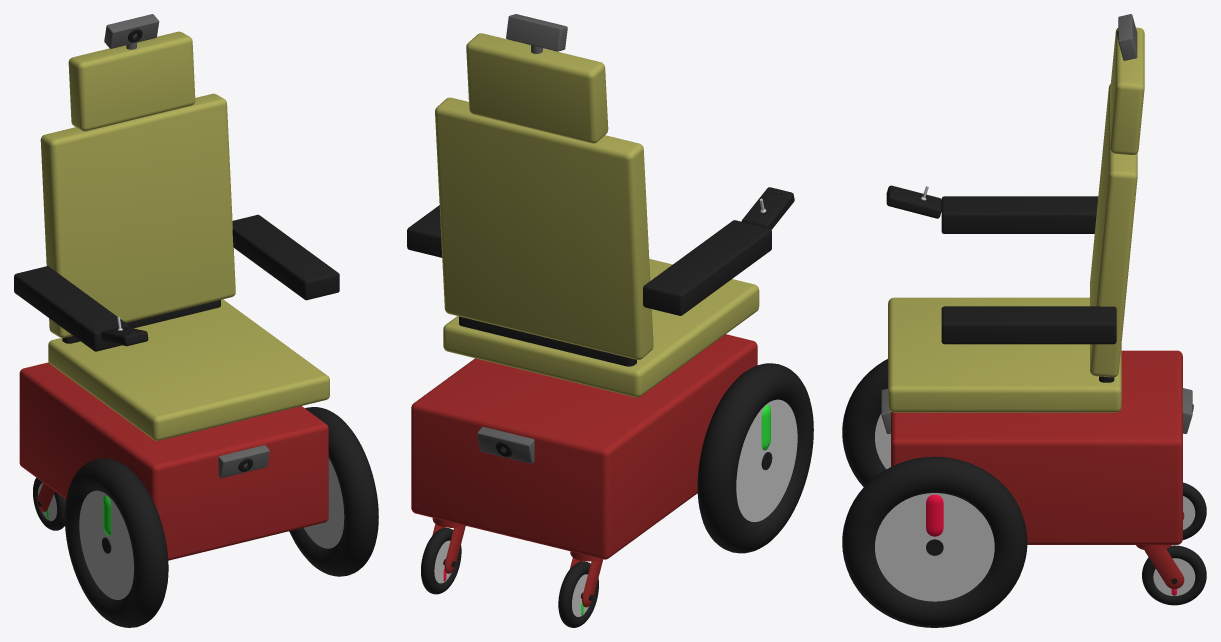
The model's file is Wheelchair.fbx.
3 renders of one model, left to right at view 1: azimuth 30°, elevation 25°; view 2: azimuth 150°, elevation 25°; view 3: azimuth 270°, elevation 25°, orthographic. The views are drawn at different scales.
Parts seen in each view (by area): view 1: Cube_3_4, Wheelchair01, Seat, Cube_3_2, Tire, Tire_2, Cube_5, Cube_4, Hub, Hub_2, Cam3, Cam1 (+3 smaller); view 2: Wheelchair01, Cube_3_4, Seat, Tire, Cube_3_2, Cube_4, Hub, CasterWheelShaft_1_2, Cube_3, CasterWheelShaft_1, Cam3, Cam2 (+4 smaller); view 3: Wheelchair01, Seat, Tire_2, Hub_2, Cube_3_4, Cube_5, Cube_4, Tire, Cube_3_2, CasterWheelShaft_1_2, ControlPanel, CasterWheelShaft_1 (+4 smaller).
Boxes of the visible parts, box(x1,y1,x2,y2) form: Cube_3_4: box(40, 93, 235, 338); Wheelchair01: box(19, 362, 328, 560); Seat: box(48, 299, 329, 440); Cube_3_2: box(68, 31, 195, 131); Tire: box(64, 458, 168, 627); Tire_2: box(289, 407, 378, 576); Cube_5: box(232, 214, 339, 300); Cube_4: box(14, 266, 129, 351); Hub: box(79, 490, 133, 599); Hub_2: box(304, 458, 344, 548); Cam3: box(104, 14, 159, 48); Cam1: box(218, 445, 269, 478); Wheelchair01: box(411, 334, 757, 559); Cube_3_4: box(435, 97, 653, 359); Seat: box(443, 259, 759, 397); Tire: box(697, 363, 813, 553); Cube_3_2: box(466, 33, 608, 143); Cube_4: box(643, 220, 771, 315); Hub: box(736, 399, 797, 522); CasterWheelShaft_1_2: box(421, 528, 461, 594); Cube_3: box(459, 316, 636, 366); CasterWheelShaft_1: box(558, 561, 598, 627); Cam3: box(506, 14, 567, 51); Cam2: box(477, 426, 534, 463); Wheelchair01: box(891, 350, 1182, 544); Seat: box(888, 297, 1121, 412); Tire_2: box(842, 456, 1027, 627); Hub_2: box(875, 493, 994, 601); Cube_3_4: box(1090, 84, 1137, 377); Cube_5: box(941, 306, 1116, 344); Cube_4: box(941, 196, 1098, 233); Tire: box(842, 359, 887, 486); Cube_3_2: box(1110, 27, 1144, 154); CasterWheelShaft_1_2: box(1142, 545, 1206, 605); ControlPanel: box(886, 185, 941, 218); CasterWheelShaft_1: box(1182, 482, 1206, 539).
Bounding box in the file's own units: 104 × 206 × 125.
